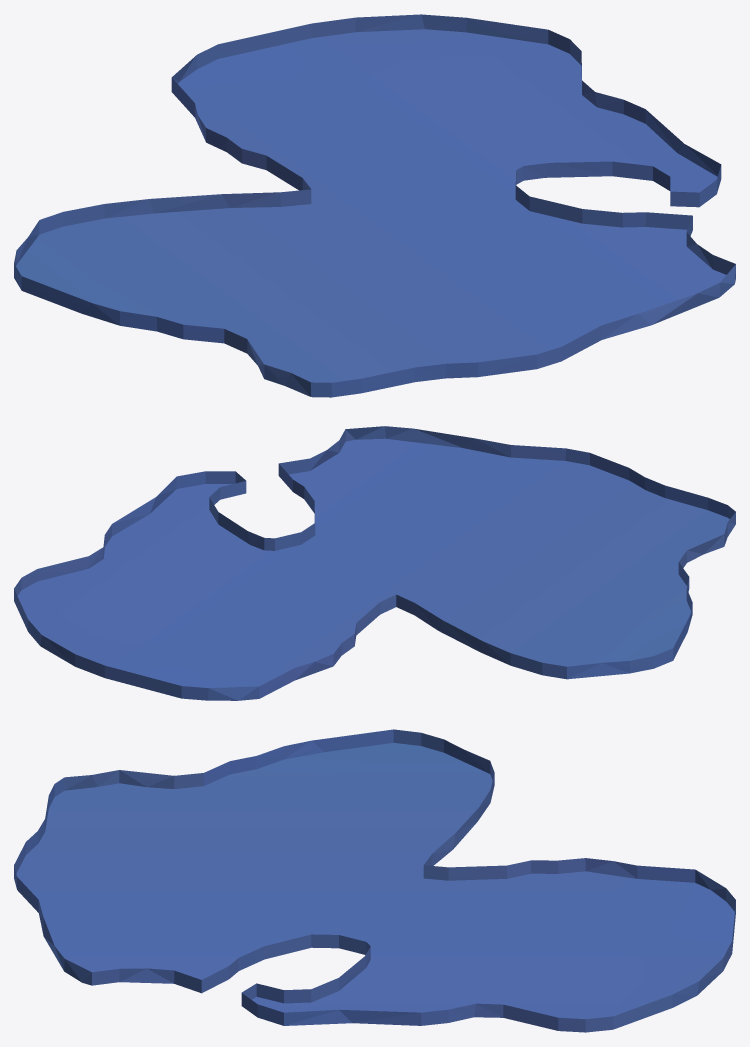
Rendered from sp_ground02.glb.
3 views of the same model, one above another, from view 1: azimuth 30°, elevation 25°; view 2: azimuth 150°, elevation 25°; view 3: azimuth 270°, elevation 25° (orthographic). The views are drawn at different scales.
Visible parts, largest first — view 1: SP_Ground02; view 2: SP_Ground02; view 3: SP_Ground02.
Part boxes in pixels (box(x1,y1,x2,y2)): SP_Ground02: box(14, 14, 735, 397); SP_Ground02: box(14, 426, 735, 700); SP_Ground02: box(14, 729, 735, 1032).
Bounding box in the file's own units: 900 × 19.33 × 948.
1 material, 1 textured.
